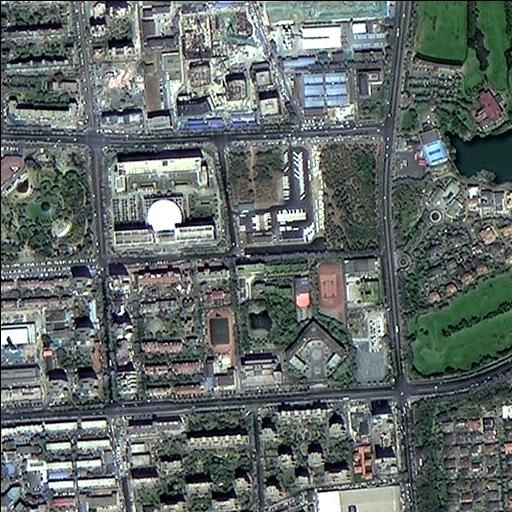school: (205, 306, 237, 394)
